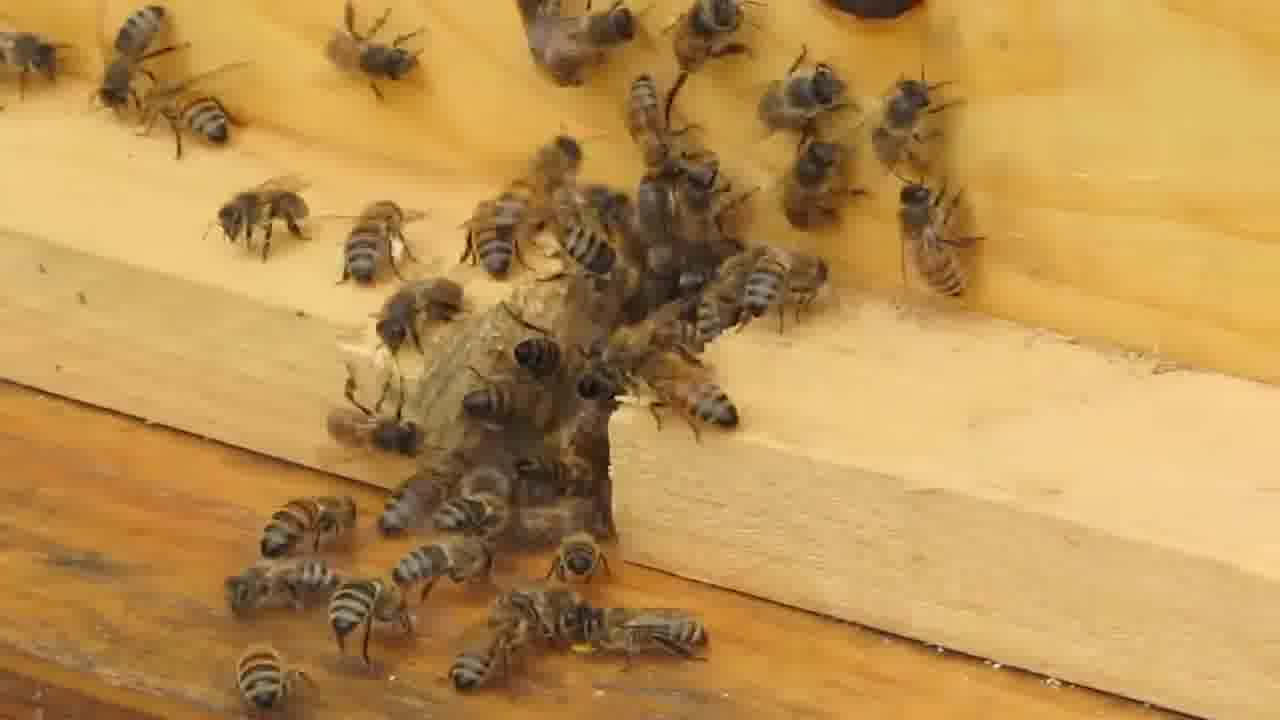pollen: (346, 195, 415, 287)
